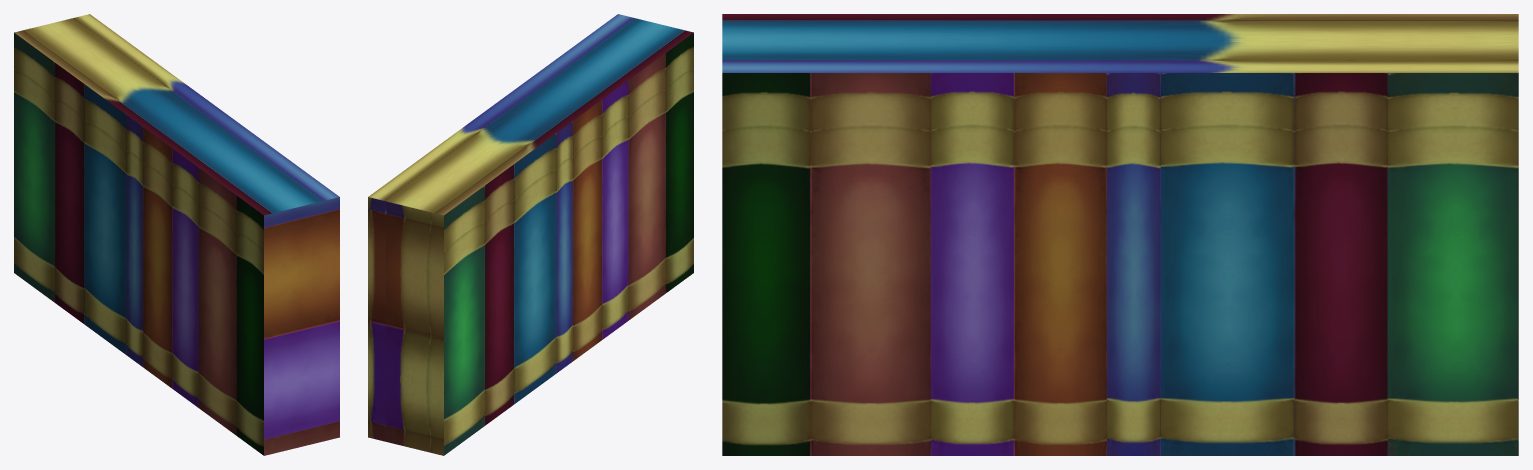
The model's file is stacked_books.glb.
3 renders of one model, left to right at view 1: azimuth 30°, elevation 25°; view 2: azimuth 150°, elevation 25°; view 3: azimuth 270°, elevation 25°, orthographic. The views are drawn at different scales.
Parts seen in each view (by area): view 1: Stacked_Books; view 2: Stacked_Books; view 3: Stacked_Books.
Boxes of the visible parts, x1,y1,x2,y2 form: Stacked_Books: [14, 14, 339, 455]; Stacked_Books: [368, 14, 693, 455]; Stacked_Books: [722, 14, 1518, 455].
Bounding box in the file's own units: 0.1545 × 0.4683 × 0.8824.
1 material, 1 textured.
